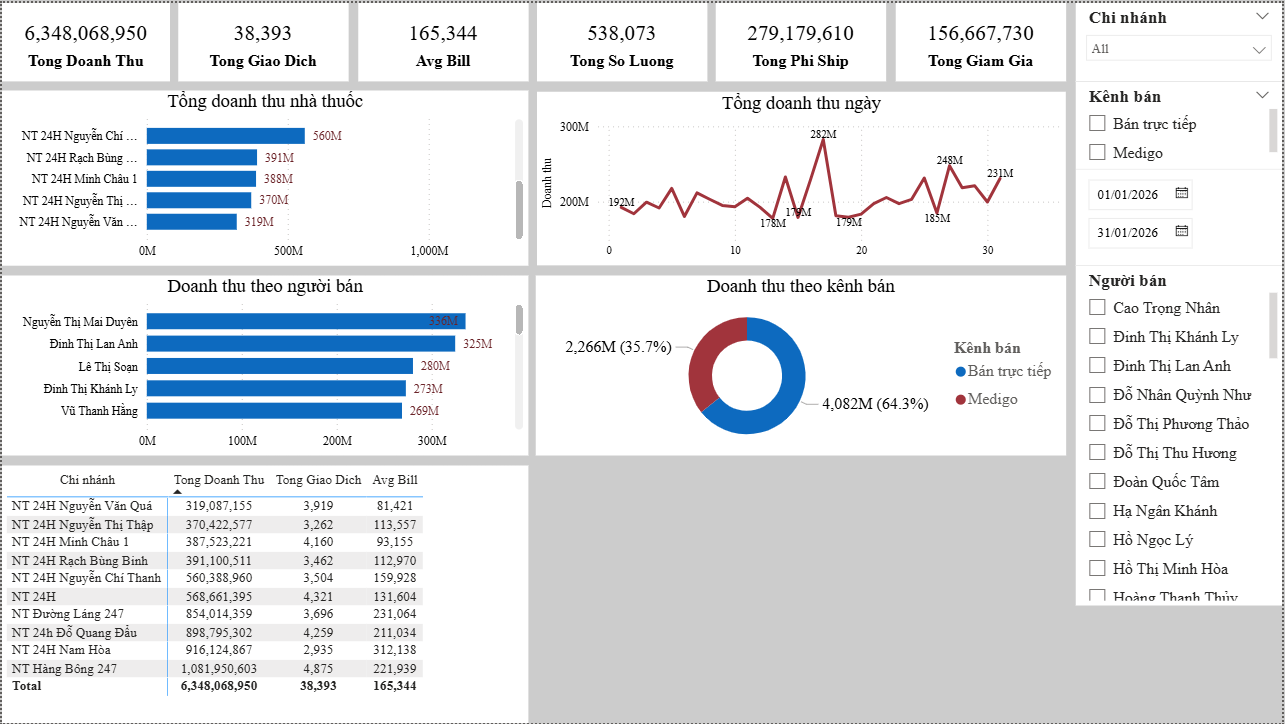

Layout of this report page (visuals, bound fields, positions):
{"tool":"powerbi","page":{"name":"Executive","canvas":[1280,720],"ordinal":0},"visuals":[{"type":"card","fields":{"Values":["dataHD 0101 - 3101.Tong Doanh Thu"]},"box":[0,0,168,78.8],"z":0},{"type":"card","fields":{"Values":["dataHD 0101 - 3101.Tong Giao Dich"]},"box":[176.2,0,170,78.8],"z":1000},{"type":"card","fields":{"Values":["dataHD 0101 - 3101.Avg Bill"]},"box":[356.2,0,170,78.8],"z":2000},{"type":"card","fields":{"Values":["dataHD 0101 - 3101.Tong So Luong"]},"box":[535,0,170,78.8],"z":3000},{"type":"card","fields":{"Values":["dataHD 0101 - 3101.Tong Phi Ship"]},"box":[713.8,0,170,78.8],"z":4000},{"type":"slicer","fields":{"Values":["dataHD 0101 - 3101.Thời gian"]},"box":[1073.8,166.2,206.2,96.2],"z":5000},{"type":"slicer","fields":{"Values":["dataHD 0101 - 3101.Chi nhánh"]},"box":[1073.8,0,206.2,78.8],"z":6000},{"type":"slicer","fields":{"Values":["dataHD 0101 - 3101.Kênh bán"]},"box":[1073.8,78.8,206.2,87.5],"z":7000},{"type":"lineChart","title":"Tổng doanh thu ngày","fields":{"Category":["dataHD 0101 - 3101.Thời gian.Variation.Date Hierarchy.Day"],"Y":["dataHD 0101 - 3101.Tong Doanh Thu"]},"box":[535,88.8,528.8,173.8],"z":8000},{"type":"clusteredBarChart","title":"Tổng doanh thu nhà thuốc","fields":{"Category":["dataHD 0101 - 3101.Chi nhánh"],"Y":["dataHD 0101 - 3101.Tong Doanh Thu"]},"box":[0,87.5,526.2,175],"z":9000},{"type":"donutChart","title":"Doanh thu theo kênh bán","fields":{"Category":["dataHD 0101 - 3101.Kênh bán"],"Y":["dataHD 0101 - 3101.Tong Doanh Thu"]},"box":[533.8,272.5,530,180],"z":10000},{"type":"clusteredBarChart","title":"Doanh thu theo người bán","fields":{"Category":["dataHD 0101 - 3101.Người bán"],"Y":["dataHD 0101 - 3101.Tong Doanh Thu"]},"box":[0,272.5,526.2,180],"z":11000},{"type":"pivotTable","fields":{"Rows":["dataHD 0101 - 3101.Chi nhánh"],"Values":["dataHD 0101 - 3101.Tong Doanh Thu","dataHD 0101 - 3101.Tong Giao Dich","dataHD 0101 - 3101.Avg Bill"]},"box":[0,462.5,526.2,257.5],"z":12000},{"type":"card","fields":{"Values":["dataHD 0101 - 3101.Tong Giam Gia"]},"box":[893.8,0,170,78.8],"z":13000},{"type":"slicer","fields":{"Values":["dataHD 0101 - 3101.Người bán"]},"box":[1073.8,262.5,206.2,340],"z":14000}]}

Visuals, with their boxes in screenshot pixels (x1, y1, x2, y2), scaled from the page's 1280x720 canvas onto the 1285x724 screenshot:
card - dataHD 0101 - 3101.Tong Doanh Thu: region(0, 0, 169, 79)
card - dataHD 0101 - 3101.Tong Giao Dich: region(177, 0, 348, 79)
card - dataHD 0101 - 3101.Avg Bill: region(358, 0, 528, 79)
card - dataHD 0101 - 3101.Tong So Luong: region(537, 0, 708, 79)
card - dataHD 0101 - 3101.Tong Phi Ship: region(717, 0, 887, 79)
slicer - dataHD 0101 - 3101.Thời gian: region(1078, 167, 1284, 264)
slicer - dataHD 0101 - 3101.Chi nhánh: region(1078, 0, 1284, 79)
slicer - dataHD 0101 - 3101.Kênh bán: region(1078, 79, 1284, 167)
"Tổng doanh thu ngày" lineChart: region(537, 89, 1068, 264)
"Tổng doanh thu nhà thuốc" clusteredBarChart: region(0, 88, 528, 264)
"Doanh thu theo kênh bán" donutChart: region(536, 274, 1068, 455)
"Doanh thu theo người bán" clusteredBarChart: region(0, 274, 528, 455)
pivotTable - dataHD 0101 - 3101.Chi nhánh x dataHD 0101 - 3101.Tong Doanh Thu: region(0, 465, 528, 723)
card - dataHD 0101 - 3101.Tong Giam Gia: region(897, 0, 1068, 79)
slicer - dataHD 0101 - 3101.Người bán: region(1078, 264, 1284, 606)
